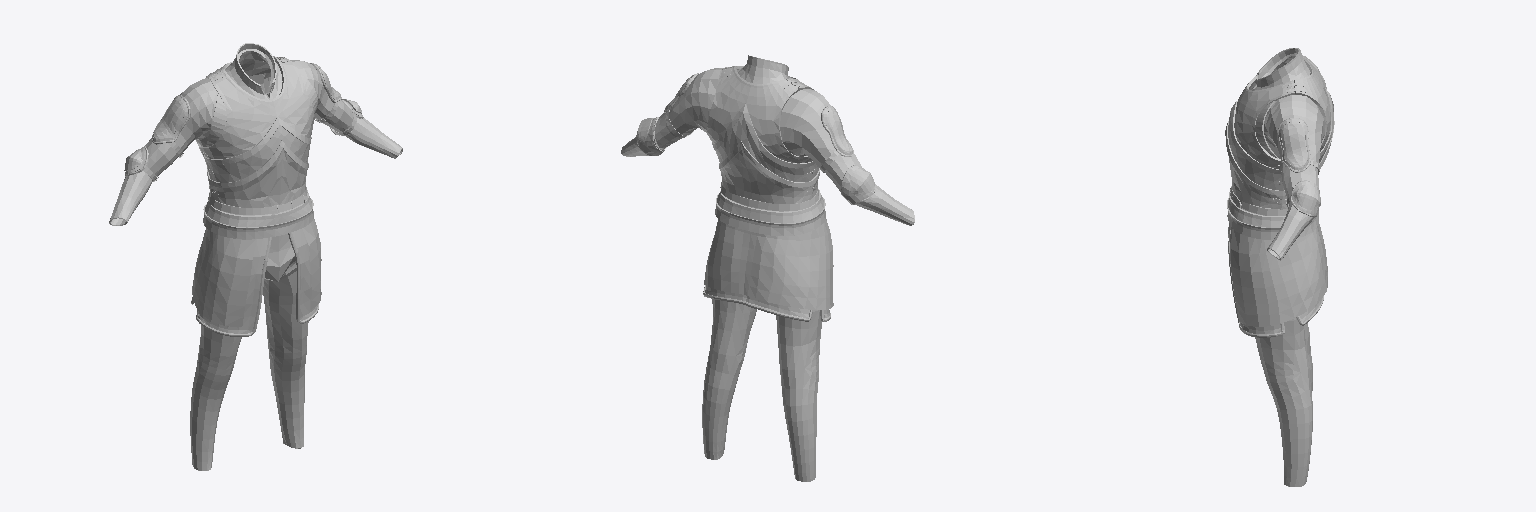
Rendered from full_body.obj.
3 views of the same model, side by side, from view 1: azimuth 30°, elevation 25°; view 2: azimuth 150°, elevation 25°; view 3: azimuth 270°, elevation 25° (orthographic).
Parts seen in each view (by area): view 1: Soi_SimpleArmor_Plane.003; view 2: Soi_SimpleArmor_Plane.003; view 3: Soi_SimpleArmor_Plane.003.
Part boxes in pixels (x1,y1,x2,y2): Soi_SimpleArmor_Plane.003: (109, 43, 402, 470); Soi_SimpleArmor_Plane.003: (621, 55, 914, 481); Soi_SimpleArmor_Plane.003: (1225, 48, 1334, 486).
Bounding box in the file's own units: 1.14 × 1.53 × 0.3682.